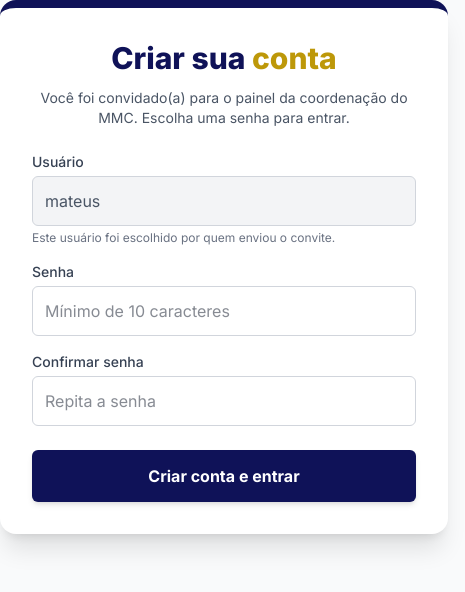
Test: formulário do convite › senha curta: o aviso aparece ao lado do campo e nada é enviado
Type "curta" into the password field with placeholder "Mínimo de 10 caracteres".
click(224, 311); type("curta")  # box top-left (32, 286), bottom-right (416, 336)
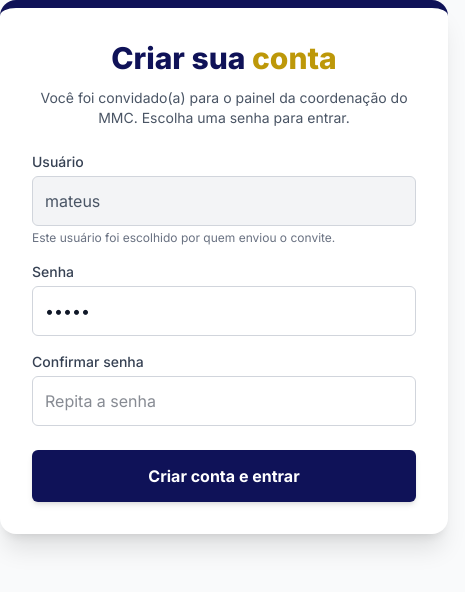
Type "curta" into the password field with placeholder "Repita a senha".
click(224, 401); type("curta")  # box top-left (32, 376), bottom-right (416, 426)
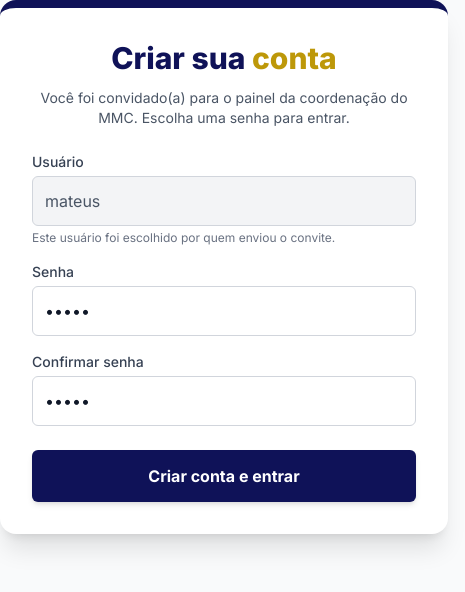
Submit the form, box top-left (32, 152), bottom-right (416, 502)
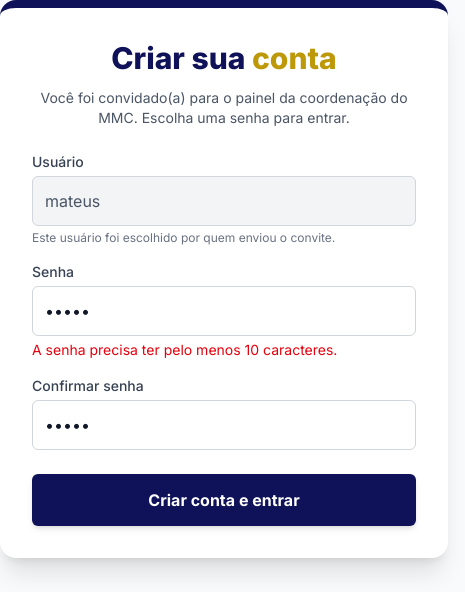
Check: the text "A senha precisa ter pelo menos 10 caracteres." is shown, box top-left (32, 341), bottom-right (337, 358)
